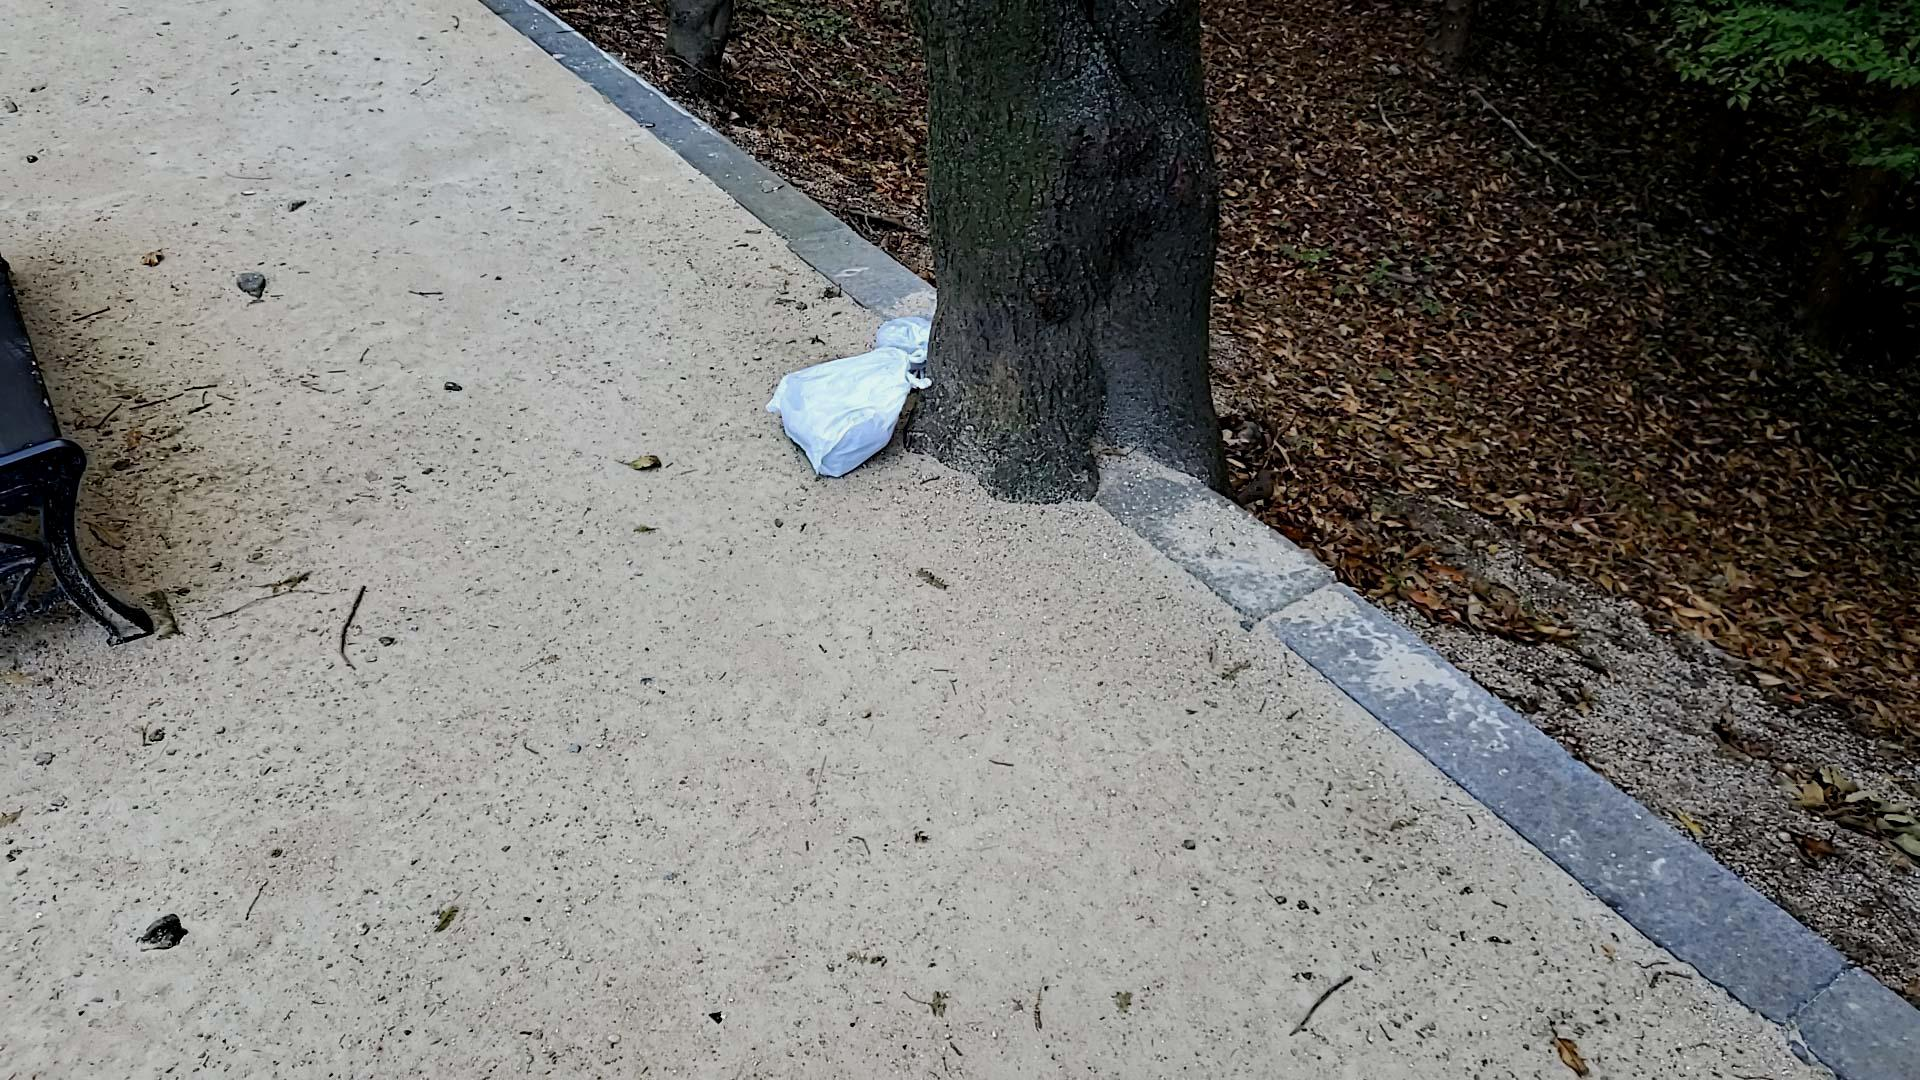white_bag: (757, 338, 940, 483), (869, 309, 947, 367)
